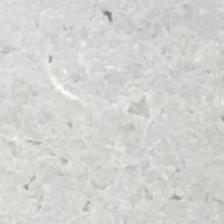Non_Crack: (26, 16, 224, 185)
